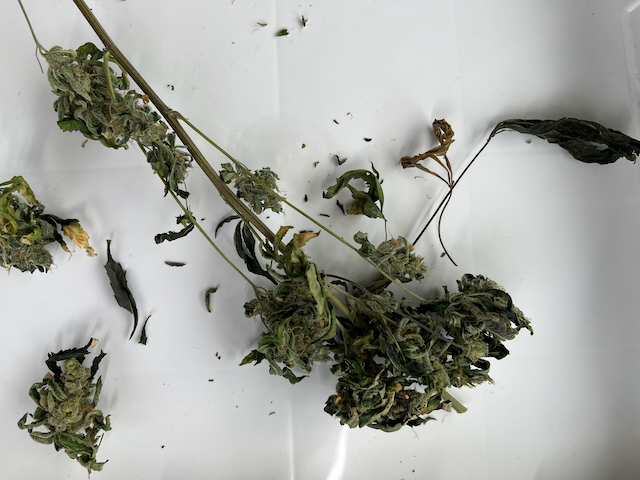Bud: (49, 46, 134, 156), (257, 277, 329, 364), (43, 356, 92, 443), (144, 117, 188, 191), (375, 235, 424, 283), (234, 163, 281, 212), (1, 234, 58, 271)
Leaf: (490, 100, 637, 179), (102, 236, 145, 343), (330, 162, 393, 217), (426, 110, 463, 181), (234, 220, 273, 284), (398, 143, 453, 187), (155, 218, 196, 244), (270, 219, 295, 256), (213, 214, 234, 236), (446, 311, 461, 327)
Leaf-Attachment: (481, 126, 499, 144), (442, 181, 456, 193), (380, 213, 389, 225)
Stem: (68, 0, 139, 60), (13, 1, 47, 54), (217, 243, 251, 290), (298, 206, 339, 241), (342, 238, 372, 272), (335, 295, 352, 321)
